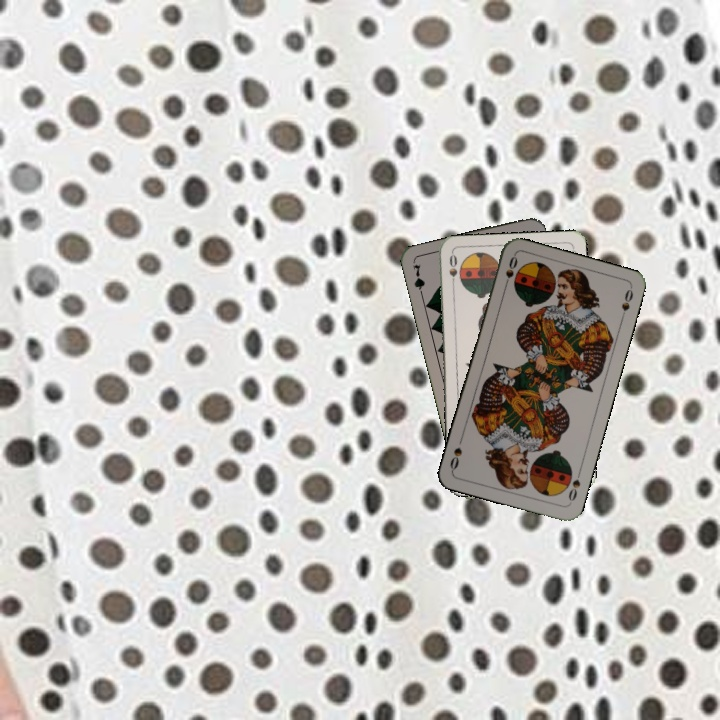G7: (409, 260, 428, 300)
SO: (500, 252, 520, 292), (564, 466, 584, 506), (445, 250, 460, 291)
